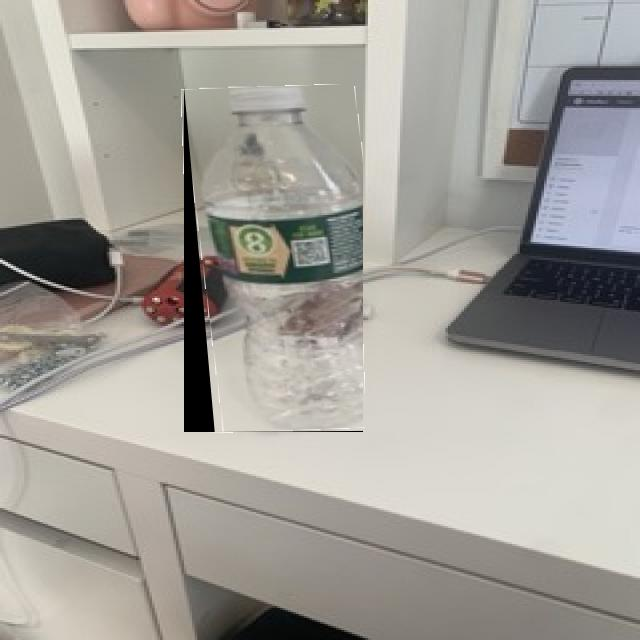water_bottle: (184, 86, 363, 432)
